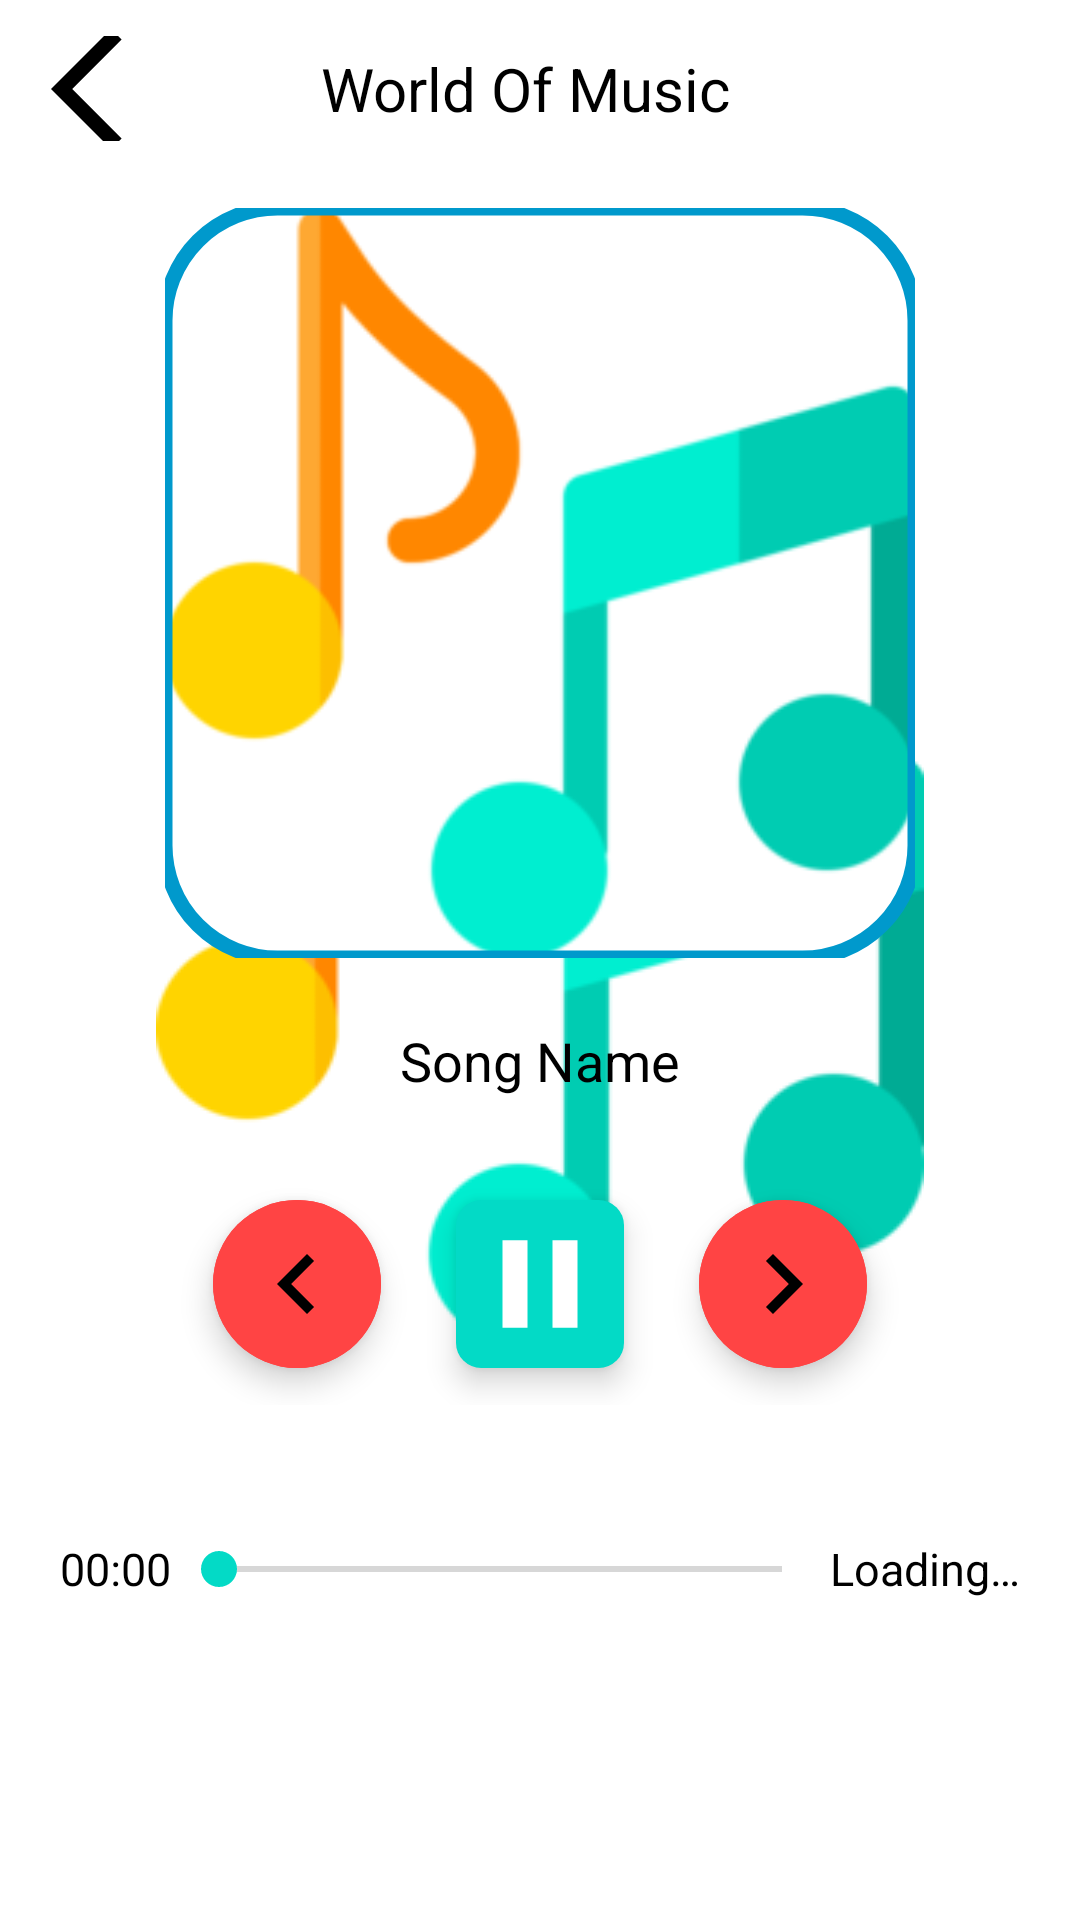

Screen size 1080 x 1920. Icon name, then its center in pixels as point (x, y):
Go back: point (86, 88)
Next: point (783, 1284)
Pause or Play: point (540, 1284)
Previous: point (297, 1284)
